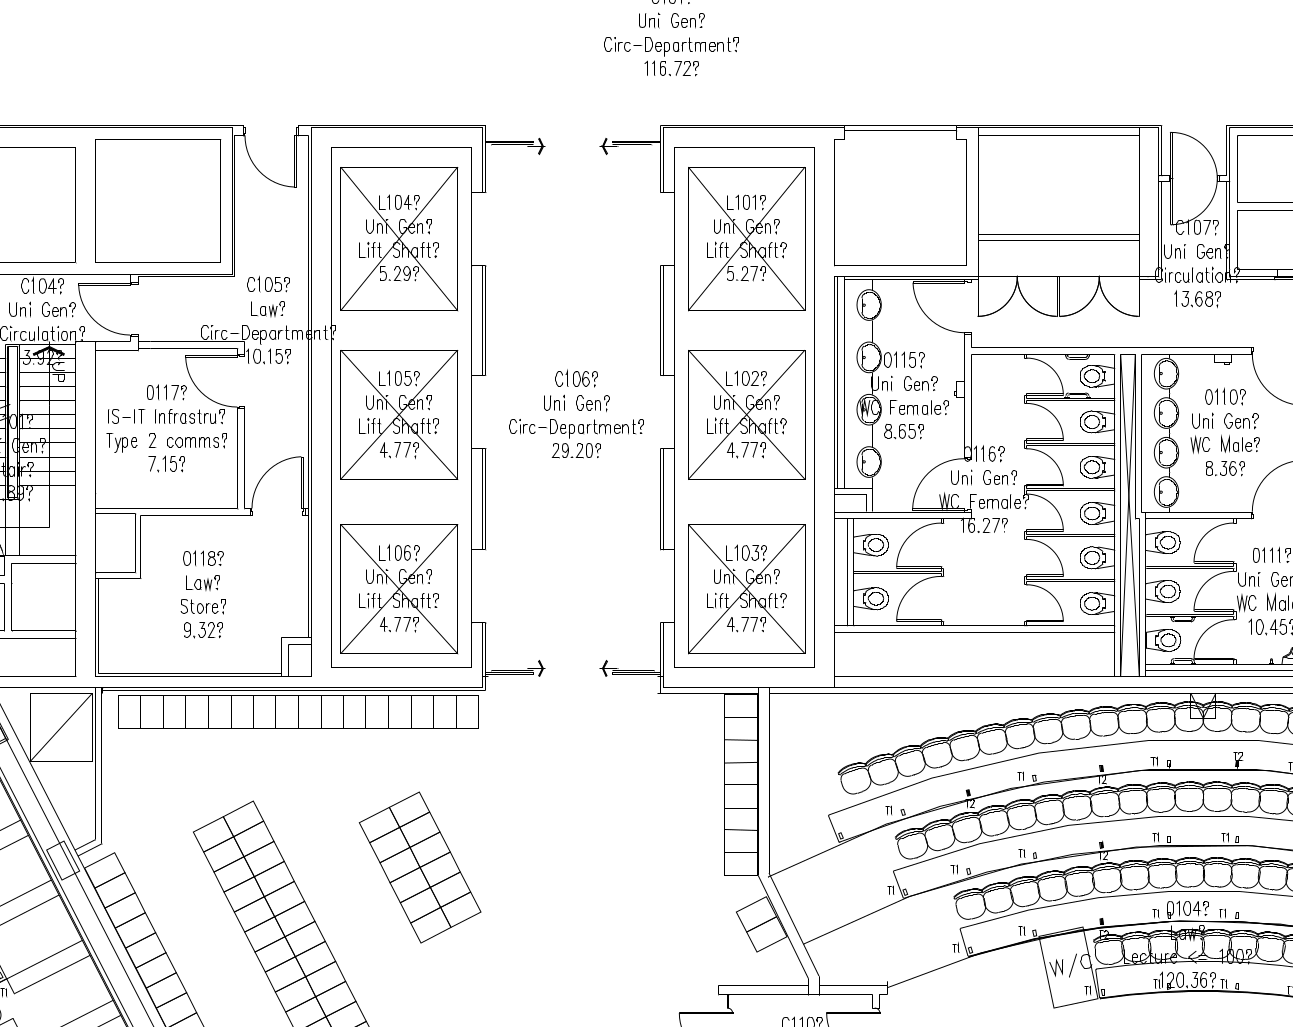door: (1163, 121, 1225, 243), (243, 446, 306, 515), (976, 273, 1057, 326), (1060, 275, 1141, 328), (900, 450, 966, 514), (181, 351, 243, 411), (910, 277, 971, 338), (70, 277, 132, 337), (238, 134, 300, 194), (1017, 574, 1069, 627), (893, 573, 945, 626), (1190, 517, 1239, 566), (1190, 564, 1239, 614), (1189, 609, 1238, 659), (1018, 536, 1069, 581), (1017, 490, 1068, 535), (1019, 444, 1071, 489), (1019, 400, 1071, 445), (1019, 356, 1071, 401)
